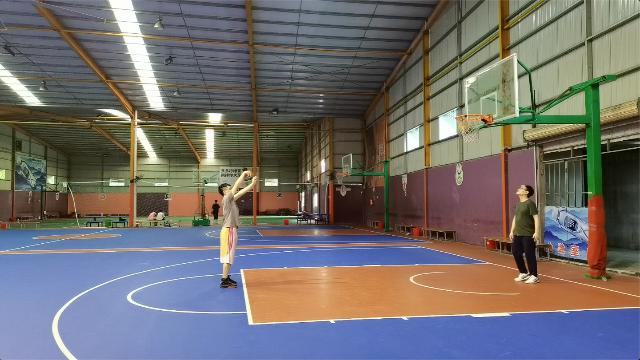ball: (458, 118, 470, 130)
basket: (455, 113, 483, 142)
